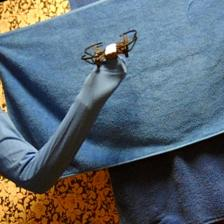drone: (82, 30, 138, 68)
